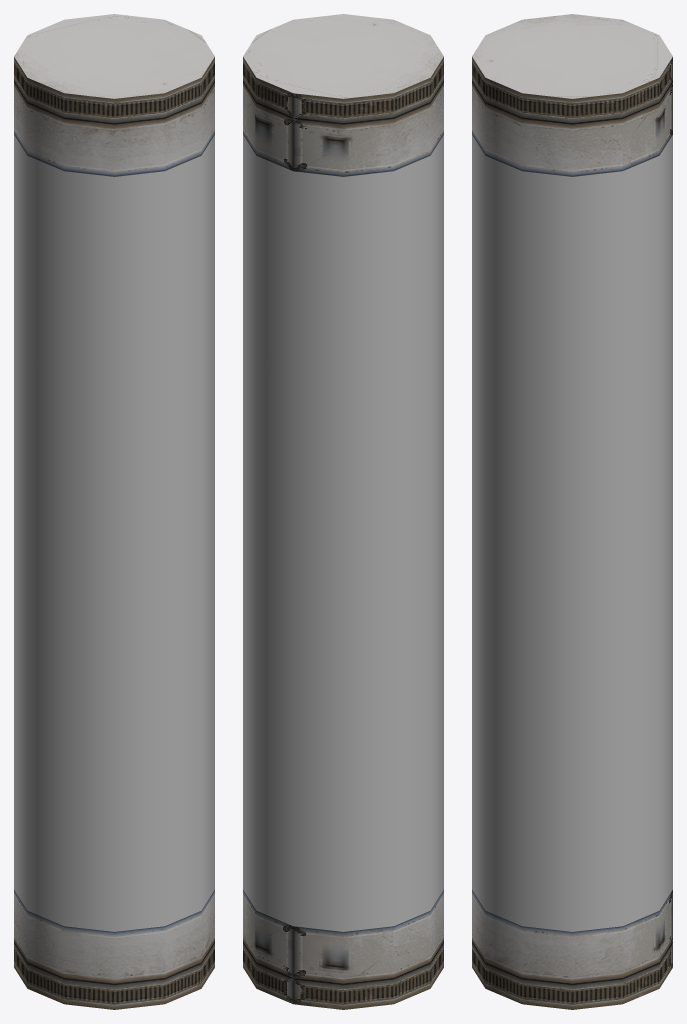
Rendered from scifi_pipe_medium_5.FBX.
3 renders of one model, left to right at view 1: azimuth 30°, elevation 25°; view 2: azimuth 150°, elevation 25°; view 3: azimuth 270°, elevation 25°, orthographic.
Parts seen in each view (by area): view 1: Cylinder015; view 2: Cylinder015; view 3: Cylinder015.
Part boxes in pixels (x1,y1,x2,y2): Cylinder015: (14, 14, 214, 1009); Cylinder015: (243, 14, 443, 1009); Cylinder015: (472, 14, 672, 1009).
Bounding box in the file's own units: 50.8 × 254 × 50.8.
